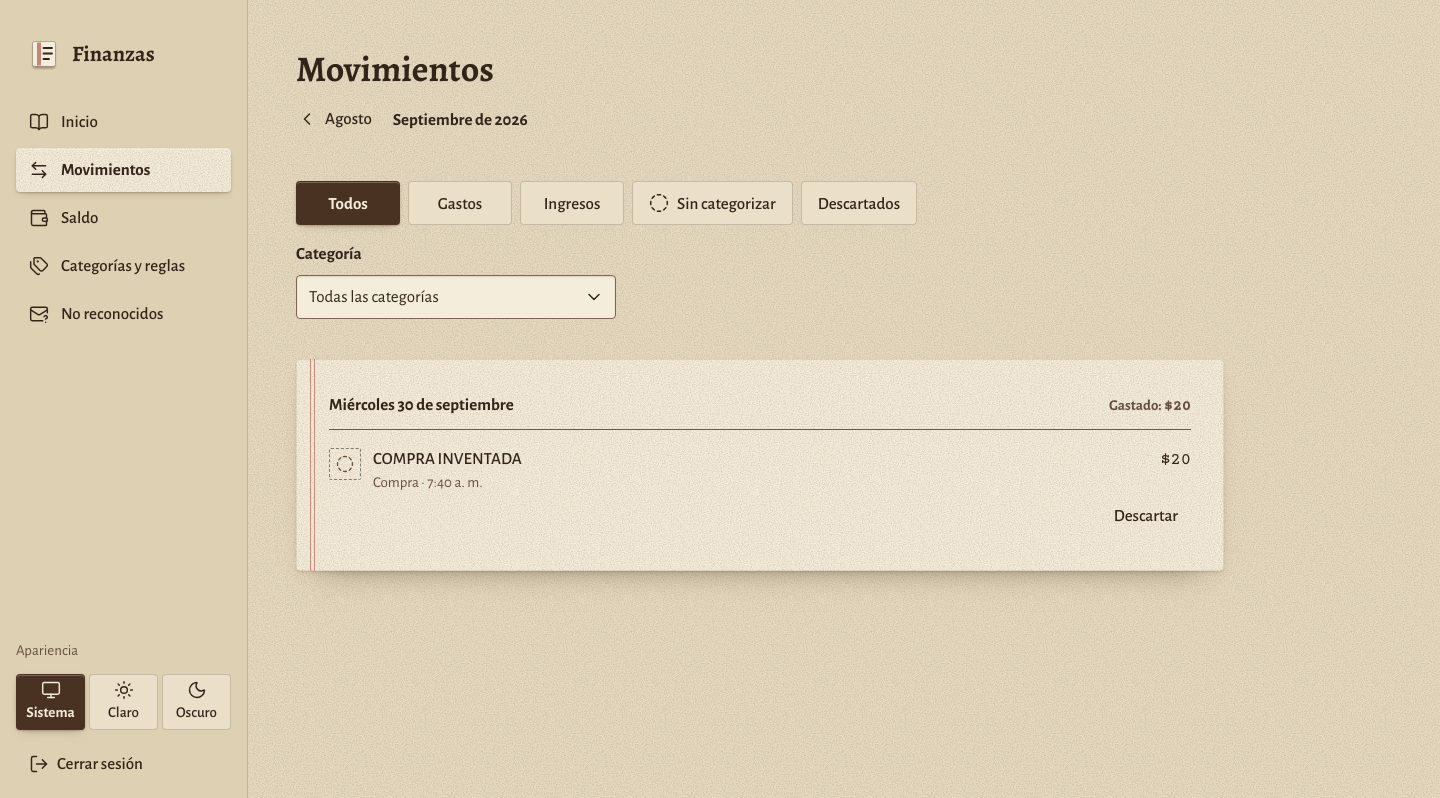
Test: descartar requiere confirmación, envía CSRF y muestra los saldos exactos del servidor
Click the button with aria-label "Descartar COMPRA INVENTADA". click: x=1146, y=516
box: top-left (1101, 494), bottom-right (1191, 538)
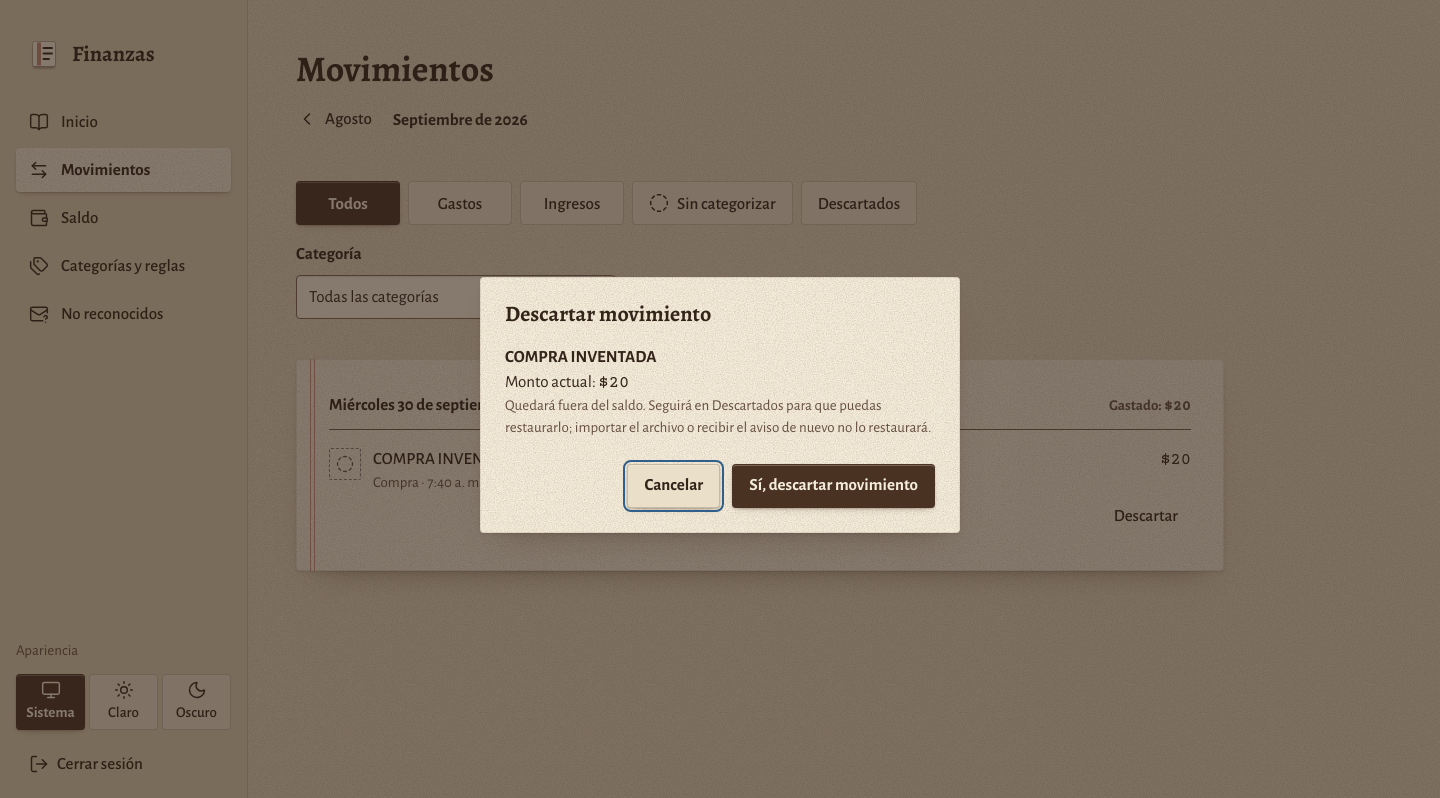
expect the text "Quedará fuera del saldo" is shown: met, box top-left (505, 398), bottom-right (931, 435)
Click the button "Sí, descartar movimiento". click: x=834, y=486
box: top-left (732, 464), bottom-right (935, 508)
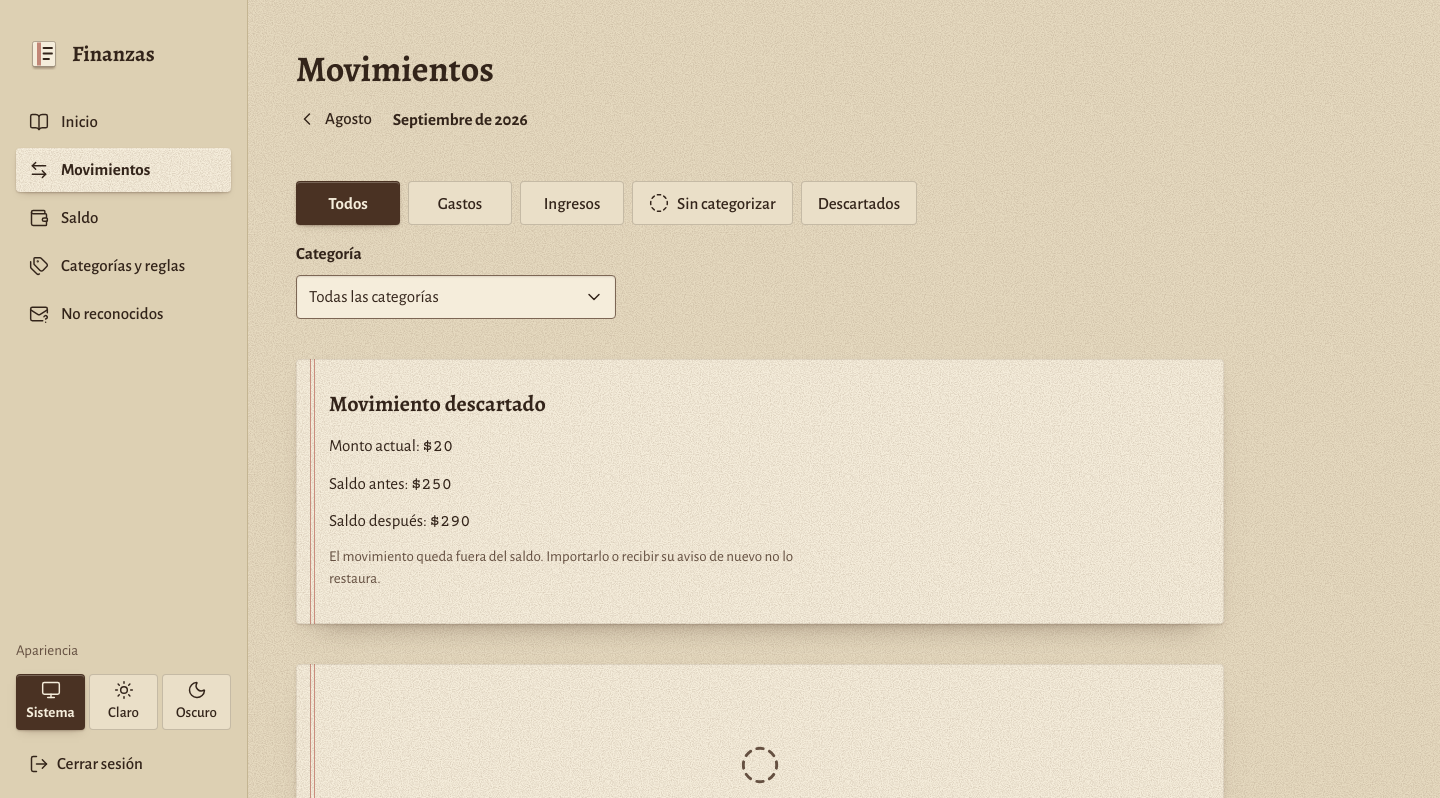
expect the heading "Movimiento descartado" is shown: met, box top-left (329, 389), bottom-right (546, 419)
expect the message shows "Saldo antes: $250": met, box top-left (329, 437), bottom-right (793, 586)
expect the message shows "Saldo después: $290": met, box top-left (329, 437), bottom-right (793, 586)
